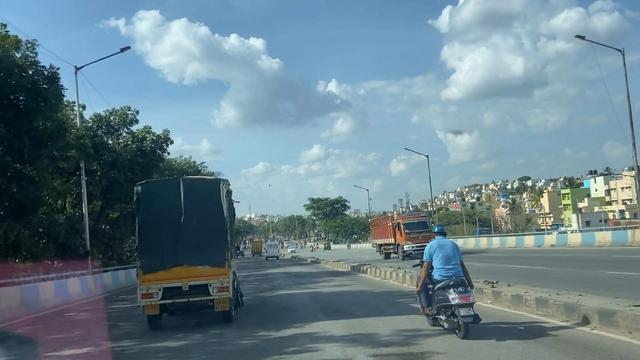HMV: (129, 171, 248, 322)
LMV: (385, 210, 471, 341)
